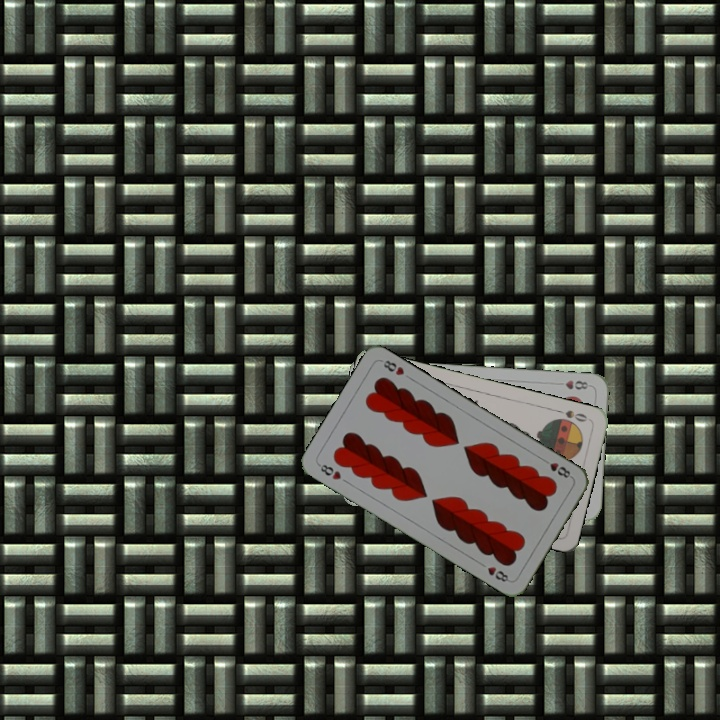H8: (538, 455, 575, 481), (314, 460, 344, 482), (553, 376, 591, 392)
SO: (553, 406, 592, 424)
